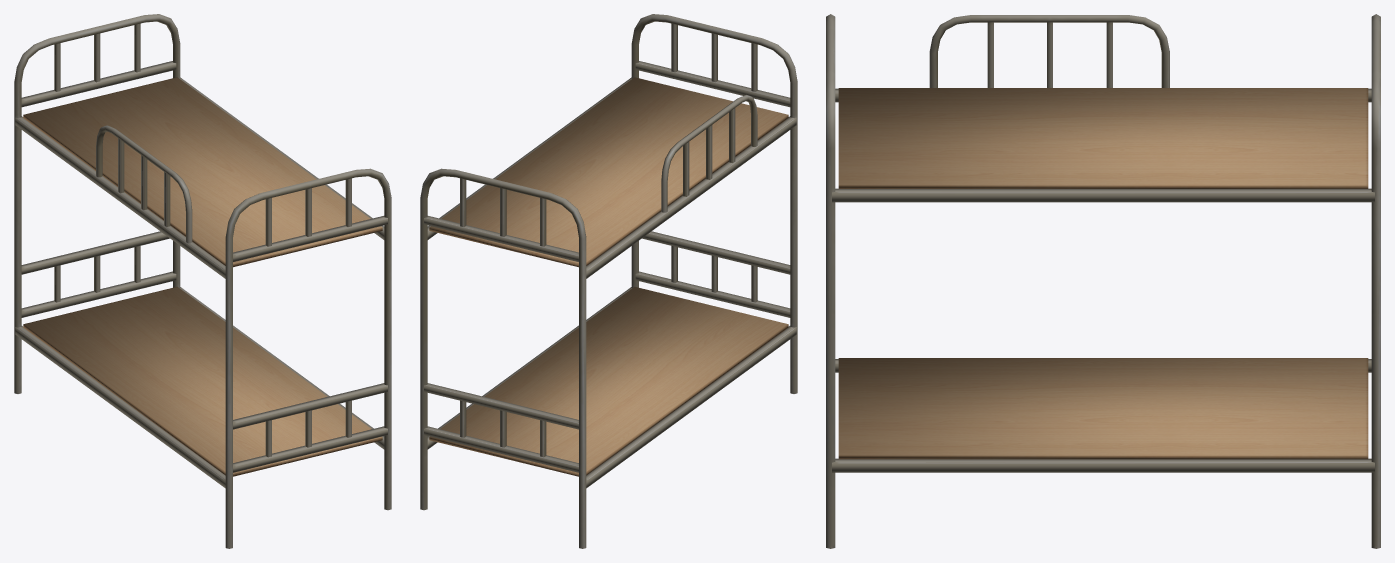
The model's file is CPRZ001.gltf.
The picture shows the model from 3 angles, left to right: view 1: azimuth 30°, elevation 25°; view 2: azimuth 150°, elevation 25°; view 3: azimuth 270°, elevation 25°; orthographic projection. The views are drawn at different scales.
Parts seen in each view (by area): view 1: CPRZ001; view 2: CPRZ001; view 3: CPRZ001.
Boxes of the visible parts, <box> form: CPRZ001: <box>14,14,391,548</box>; CPRZ001: <box>420,14,797,548</box>; CPRZ001: <box>826,14,1380,548</box>.
Bounding box in the file's own units: 88.12 × 176 × 198.
1 material, 1 textured.
